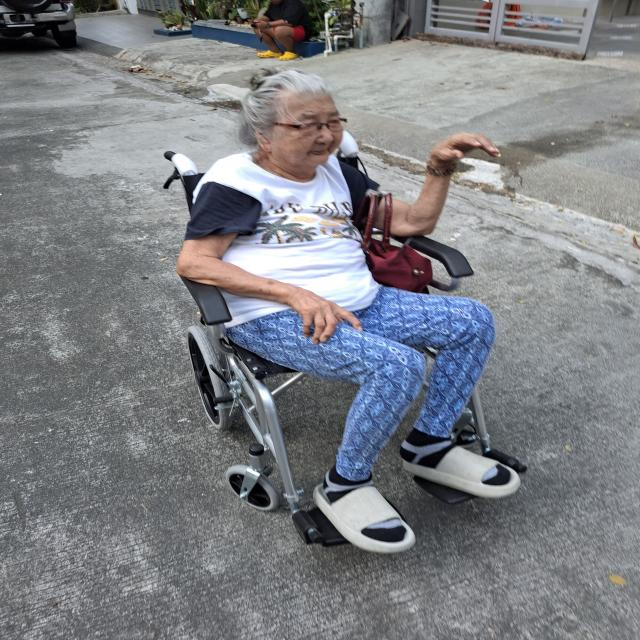wheelchairs: (161, 124, 528, 550)
